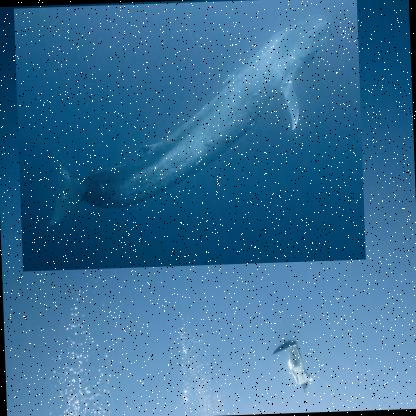blue_whale: (14, 0, 368, 272)
